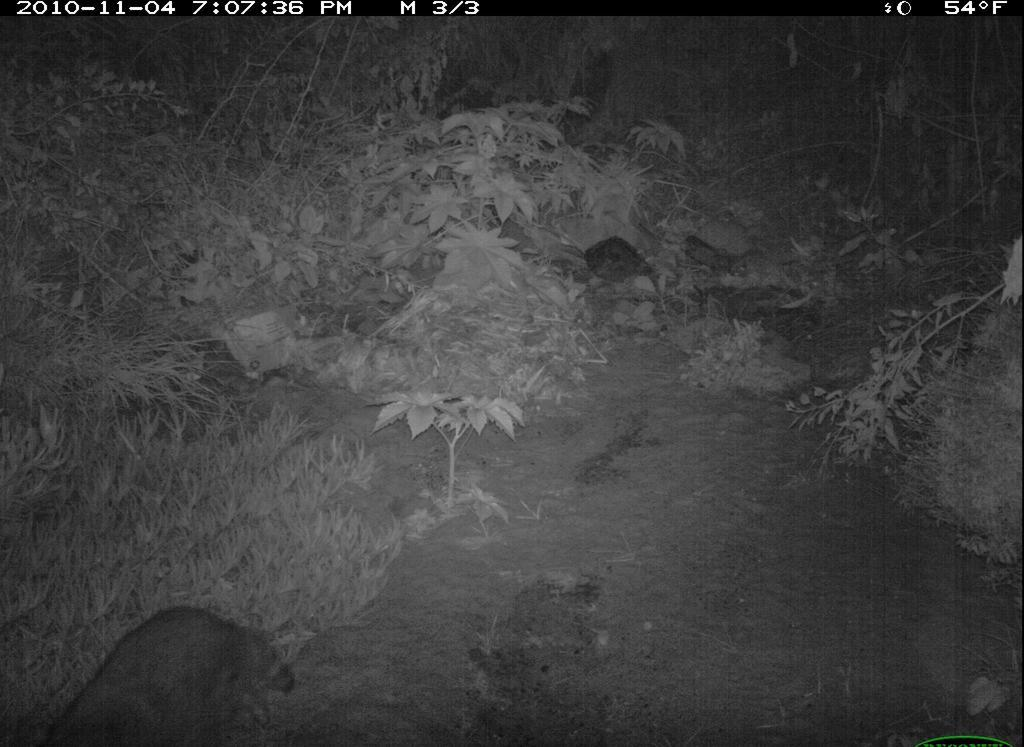raccoon: (40, 601, 301, 747)
